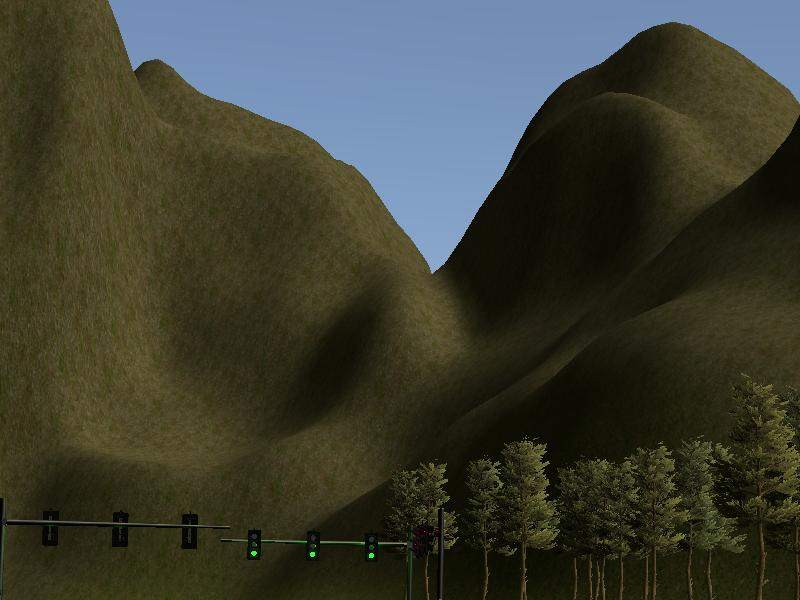Green: (305, 529, 319, 559), (245, 528, 259, 558), (364, 534, 378, 564)
